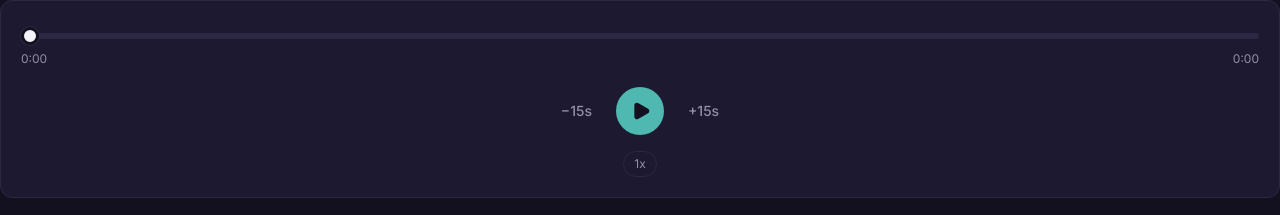
AudioPlayer › alterna para pausar ao clicar em play
The image size is (1280, 215).
Click the button named "Reproduzir": [640, 111] box [616,87,664,135]
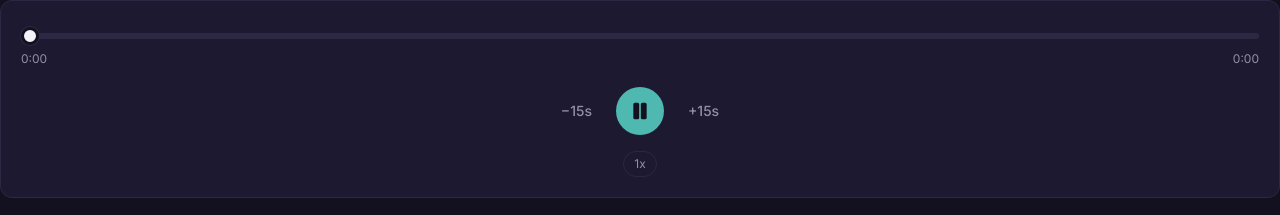
Result: the button named "Pausar" is shown at [616,87,664,135]
